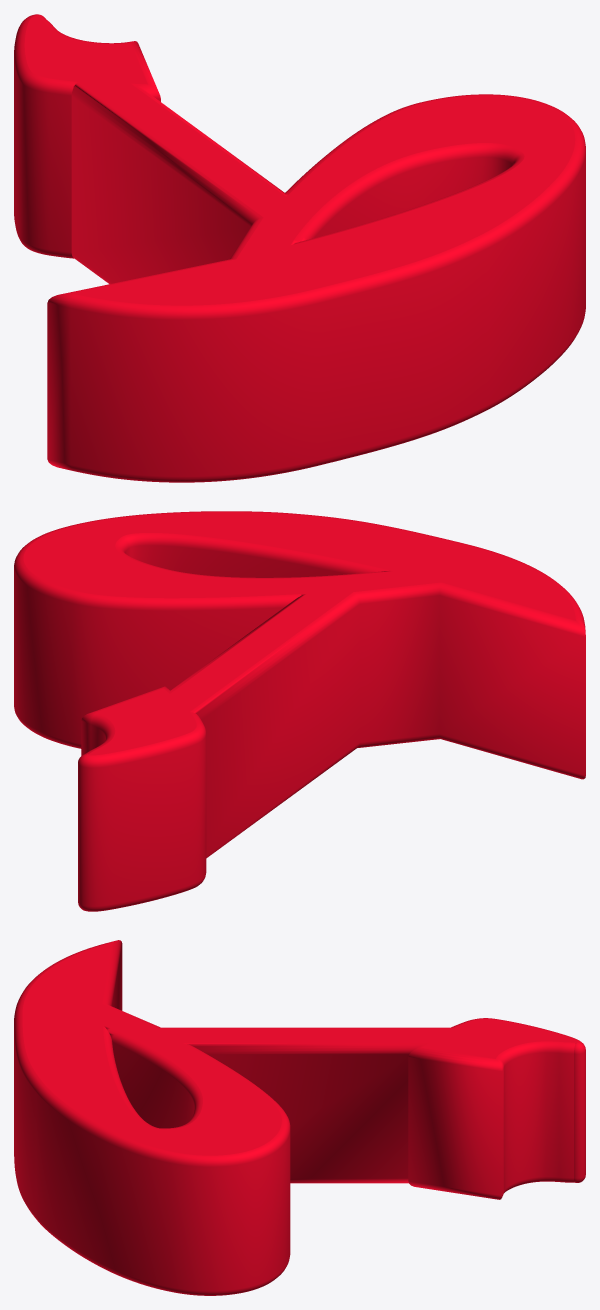
File: 16 tho 1.fbx
The picture shows the model from 3 angles, top to bottom: view 1: azimuth 30°, elevation 25°; view 2: azimuth 150°, elevation 25°; view 3: azimuth 270°, elevation 25°; orthographic projection. The views are drawn at different scales.
Visible parts, largest first — view 1: Text.012; view 2: Text.012; view 3: Text.012.
Boxes of the visible parts, x1,y1,x2,y2 form: Text.012: [14, 14, 585, 482]; Text.012: [14, 511, 585, 911]; Text.012: [14, 940, 585, 1295].
Size of the model in its own units: 61.85 by 18 by 66.89.
